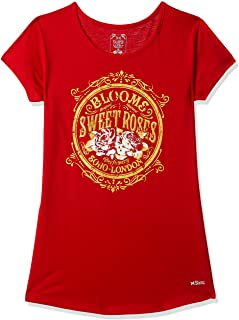tshirt: (1, 1, 239, 315)
